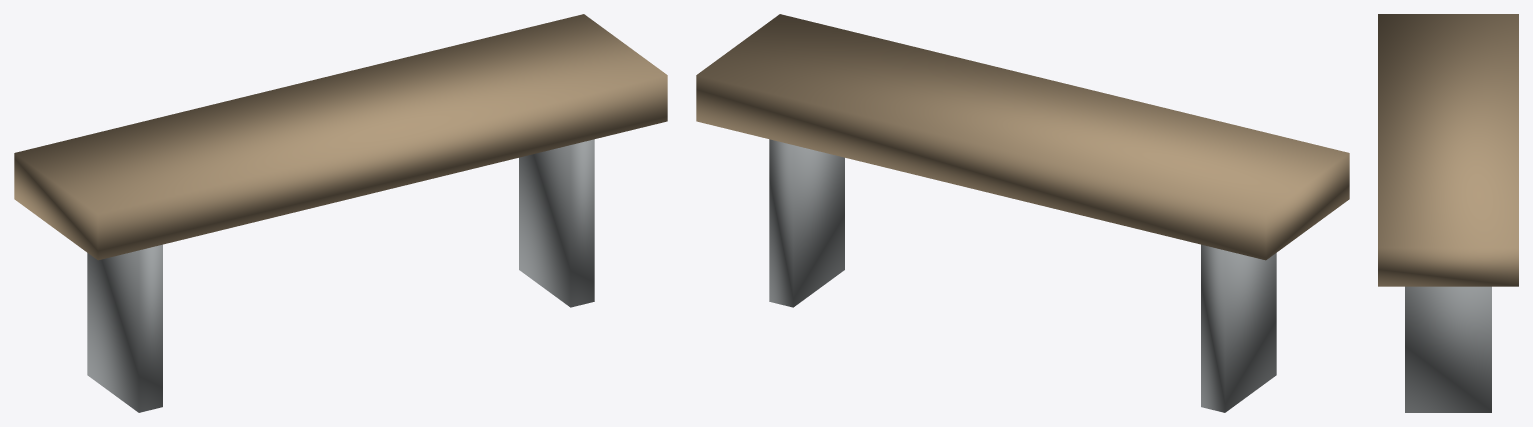
The model's file is gallery_bench__tall.glb.
3 views of the same model, side by side, from view 1: azimuth 30°, elevation 25°; view 2: azimuth 150°, elevation 25°; view 3: azimuth 270°, elevation 25° (orthographic). The views are drawn at different scales.
Visible parts, largest first — view 1: world; view 2: world; view 3: world.
Boxes of the visible parts, x1=… form: world: x1=14, y1=14, x2=667, y2=412; world: x1=696, y1=14, x2=1349, y2=412; world: x1=1378, y1=14, x2=1518, y2=412.
Bounding box in the file's own units: 1.65 × 0.6206 × 0.42.
